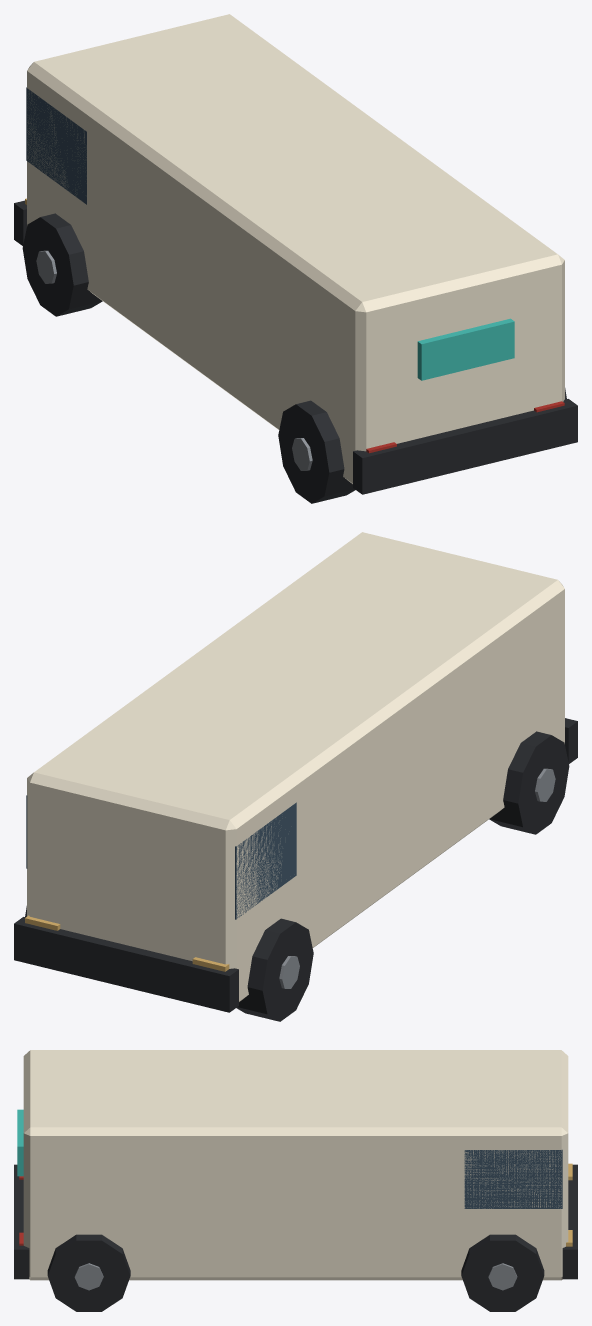
Rendered from vehicle.van.glb.
3 renders of one model, top to bottom at view 1: azimuth 30°, elevation 25°; view 2: azimuth 150°, elevation 25°; view 3: azimuth 270°, elevation 25°, orthographic. The views are drawn at different scales.
Visible parts, largest first — view 1: vehicle.van; view 2: vehicle.van; view 3: vehicle.van.
Boxes of the visible parts, bbox=[...] form: vehicle.van: bbox=[14, 14, 577, 503]; vehicle.van: bbox=[14, 532, 577, 1021]; vehicle.van: bbox=[14, 1050, 577, 1311].
Size of the model in its own units: 2.11 by 1.78 by 5.18.
